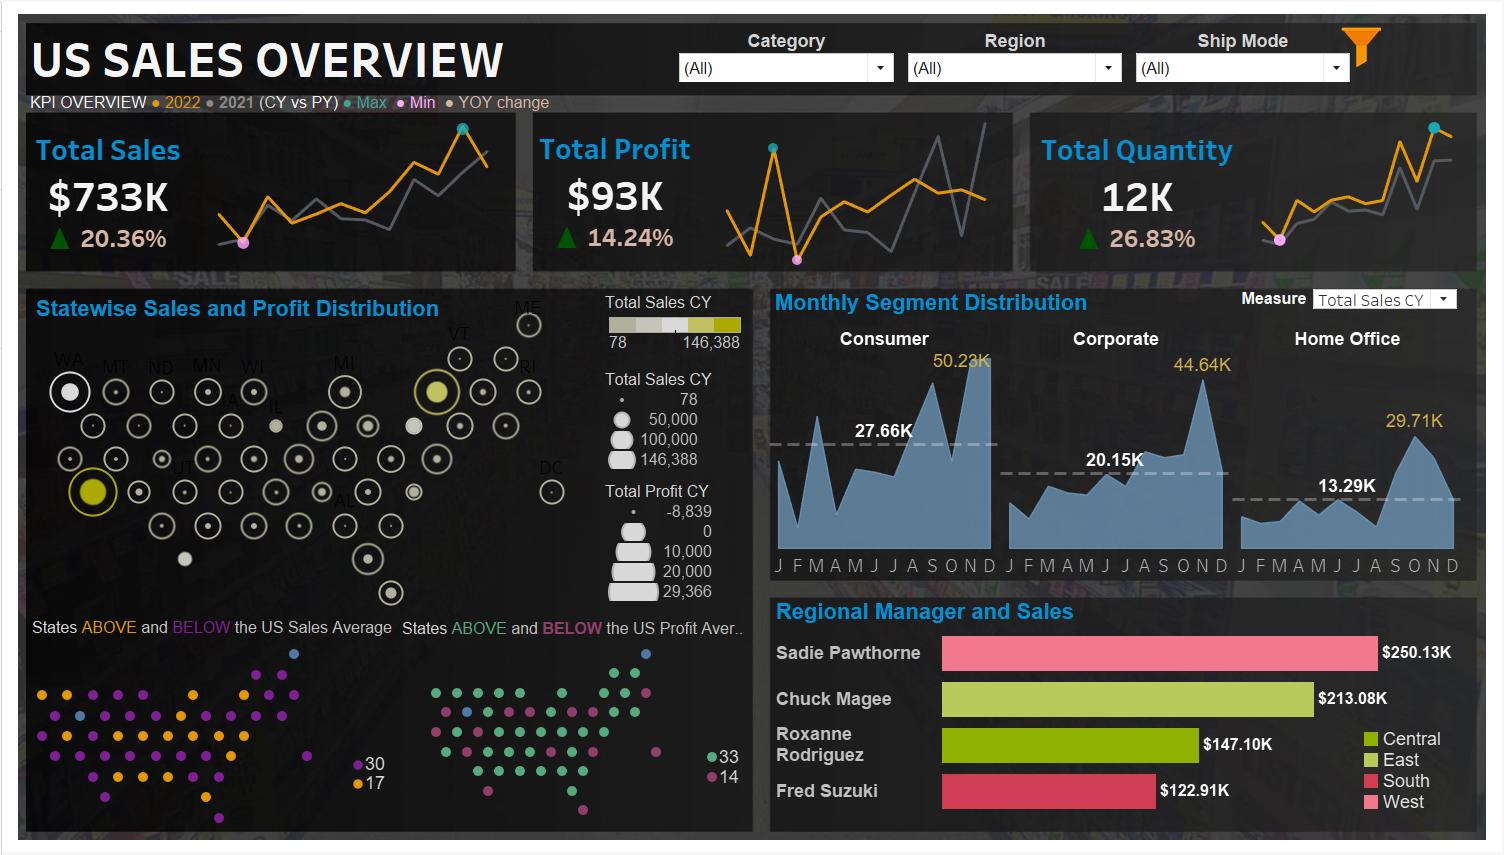

The dashboard page shown, as its layout file describes it:
{"tool":"tableau","page":{"name":"Sales Dashboard","canvas":[1500,850],"ordinal":0},"visuals":[{"type":"image","param":"E:/tableau_projects/ecommerce_sales/Sales Dashboard Background.jpg","box":[8,8,1484,834]},{"type":"text","box":[24,23,484,65]},{"type":"filter","title":"Sales and Profit Statewise","param":"[federated.0nfklcq06cdvfz1dbhid7055bbej].[none:Category:nk]","box":[670,25,229,59]},{"type":"filter","title":"Sales and Profit Statewise","param":"[federated.0nfklcq06cdvfz1dbhid7055bbej].[none:Region:nk]","box":[899,25,228,59]},{"type":"filter","title":"Sales and Profit Statewise","param":"[federated.0nfklcq06cdvfz1dbhid7055bbej].[none:Ship Mode:nk]","box":[1127,25,228,59]},{"type":"dashboard-object","box":[1339,25,40,41]},{"type":"text","box":[24,89,657,24]},{"type":"worksheet","title":"Profit KPI","mark":"Automatic","box":[529,108,168,162]},{"type":"worksheet","title":"Profit Trend","mark":"Automatic","rows":["Min Max Sales CY (copy)_920141762617360401"],"cols":["Order Date"],"box":[697,108,313,162]},{"type":"worksheet","title":"Quantity KPI","mark":"Automatic","box":[1030,110,209,159]},{"type":"worksheet","title":"Quantity Trend","mark":"Automatic","rows":["Min Max Sales CY (copy)_920141762620493842"],"cols":["Order Date"],"box":[1239,110,231,159]},{"type":"worksheet","title":"Sales KPI","mark":"Automatic","box":[23,111,165,157]},{"type":"worksheet","title":"Sales Trend","mark":"Automatic","rows":["Calculation_920141762602868752"],"cols":["Order Date"],"box":[188,111,325,157]},{"type":"text","box":[769,286,366,30]},{"type":"parameter","param":"[Parameters].[Parameter 1]","box":[1236,286,222,22]},{"type":"worksheet","title":"Sales and Profit Statewise","mark":"Circle","rows":["Row"],"cols":["Column","Column"],"box":[24,290,562,334]},{"type":"text","box":[30,292,436,30]},{"type":"legend","title":"Sales and Profit Statewise","param":"[federated.0nfklcq06cdvfz1dbhid7055bbej].[sum:Calculation_920141762579554305:qk]","box":[603,292,140,71]},{"type":"worksheet","title":"Montly Measure by Segment","mark":"Area","rows":["Calculation_920141763277606939"],"cols":["Segment","Order Date"],"box":[767,327,694,249]},{"type":"legend","title":"Sales and Profit Statewise","param":"[federated.0nfklcq06cdvfz1dbhid7055bbej].[sum:Calculation_920141762579554305:qk]","box":[603,369,140,126]},{"type":"legend","title":"Sales and Profit Statewise","param":"[federated.0nfklcq06cdvfz1dbhid7055bbej].[sum:Total Sales CY (copy)_920141762591","box":[603,481,140,151]},{"type":"text","box":[770,595,364,30]},{"type":"text","box":[26,611,368,30]},{"type":"text","box":[396,612,350,30]},{"type":"worksheet","title":"Total Sales by Region and Manager","mark":"Automatic","rows":["Country/Region","Regional Manager"],"cols":["Calculation_920141762579554305"],"box":[768,628,708,198]},{"type":"worksheet","title":"Avg Sales Statewise","mark":"Circle","rows":["Row"],"cols":["Column"],"box":[22,632,301,204]},{"type":"worksheet","title":"Avg Profit Statewise","mark":"Circle","rows":["Row"],"cols":["Column"],"box":[418,632,252,196]},{"type":"legend","title":"Total Sales by Region and Manager","param":"[federated.0nfklcq06cdvfz1dbhid7055bbej].[none:Region:nk]","box":[1359,727,113,88]},{"type":"worksheet","title":"Avg Profit Statewise Count","mark":"Circle","rows":["Avg Sales Indicator (copy)_920141762976002073"],"box":[680,745,72,43]},{"type":"worksheet","title":"Avg Sales Statewise Count","mark":"Circle","rows":["Calculation_920141762973888534"],"box":[326,753,74,51]}]}

Visuals, with their boxes in screenshot pixels (x1, y1, x2, y2), scaled from the page's 1500x850 canvas onto the 1504x855 screenshot:
image: bbox(8, 8, 1496, 847)
text: bbox(24, 23, 509, 89)
"Sales and Profit Statewise" filter: bbox(672, 25, 901, 84)
"Sales and Profit Statewise" filter: bbox(901, 25, 1130, 84)
"Sales and Profit Statewise" filter: bbox(1130, 25, 1359, 84)
dashboard-object: bbox(1343, 25, 1383, 66)
text: bbox(24, 90, 683, 114)
"Profit KPI" worksheet: bbox(530, 109, 699, 272)
"Profit Trend" worksheet: bbox(699, 109, 1013, 272)
"Quantity KPI" worksheet: bbox(1033, 111, 1242, 271)
"Quantity Trend" worksheet: bbox(1242, 111, 1474, 271)
"Sales KPI" worksheet: bbox(23, 112, 189, 270)
"Sales Trend" worksheet: bbox(189, 112, 514, 270)
text: bbox(771, 288, 1138, 318)
parameter: bbox(1239, 288, 1462, 310)
"Sales and Profit Statewise" worksheet (Circle marks): bbox(24, 292, 588, 628)
text: bbox(30, 294, 467, 324)
"Sales and Profit Statewise" legend: bbox(605, 294, 745, 365)
"Montly Measure by Segment" worksheet (Area marks): bbox(769, 329, 1465, 579)
"Sales and Profit Statewise" legend: bbox(605, 371, 745, 498)
"Sales and Profit Statewise" legend: bbox(605, 484, 745, 636)
text: bbox(772, 598, 1137, 629)
text: bbox(26, 615, 395, 645)
text: bbox(397, 616, 748, 646)
"Total Sales by Region and Manager" worksheet: bbox(770, 632, 1480, 831)
"Avg Sales Statewise" worksheet (Circle marks): bbox(22, 636, 324, 841)
"Avg Profit Statewise" worksheet (Circle marks): bbox(419, 636, 672, 833)
"Total Sales by Region and Manager" legend: bbox(1363, 731, 1476, 820)
"Avg Profit Statewise Count" worksheet (Circle marks): bbox(682, 749, 754, 793)
"Avg Sales Statewise Count" worksheet (Circle marks): bbox(327, 757, 401, 809)
